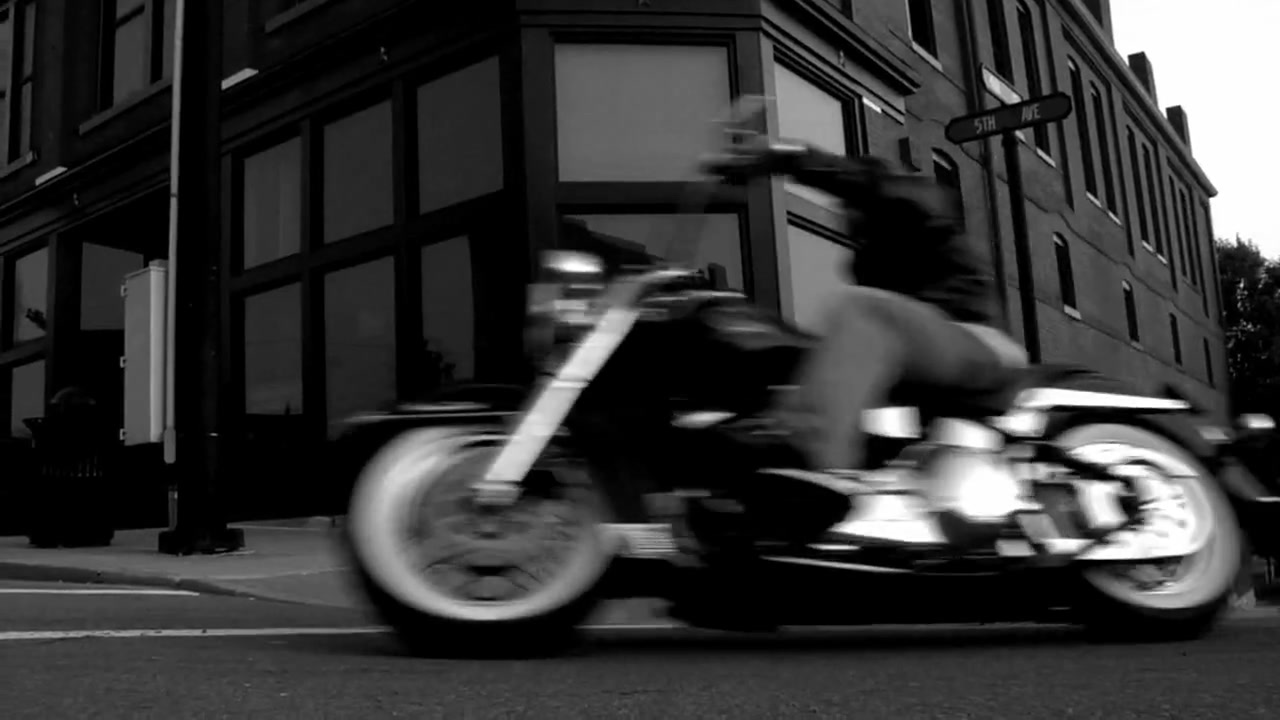motorbike: (322, 94, 1254, 636)
